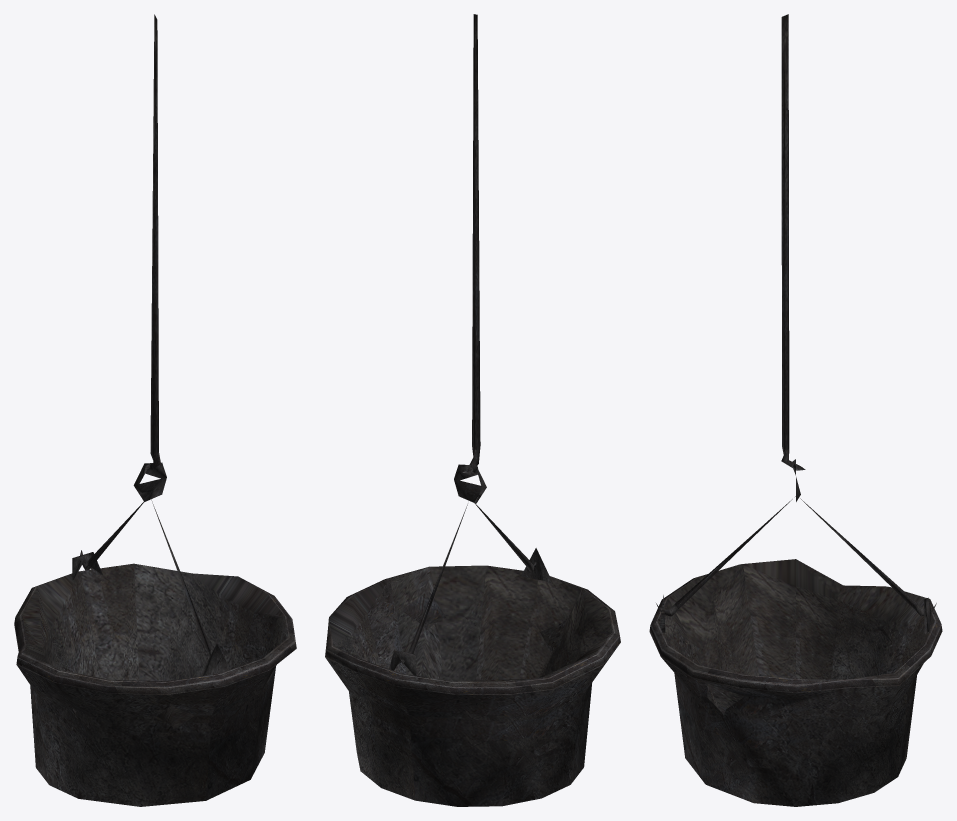
The model's file is tavern_cooker2_LOD.obj.
The picture shows the model from 3 angles, left to right: view 1: azimuth 30°, elevation 25°; view 2: azimuth 150°, elevation 25°; view 3: azimuth 270°, elevation 25°; orthographic projection.
Visible parts, largest first — view 1: Default_Layer; view 2: Default_Layer; view 3: Default_Layer.
Boxes of the visible parts, <box> form: Default_Layer: <box>14,14,296,806</box>; Default_Layer: <box>325,14,620,806</box>; Default_Layer: <box>649,14,942,806</box>.
Size of the model in its own units: 3.96 by 11.34 by 3.9.
1 material, 1 textured.
